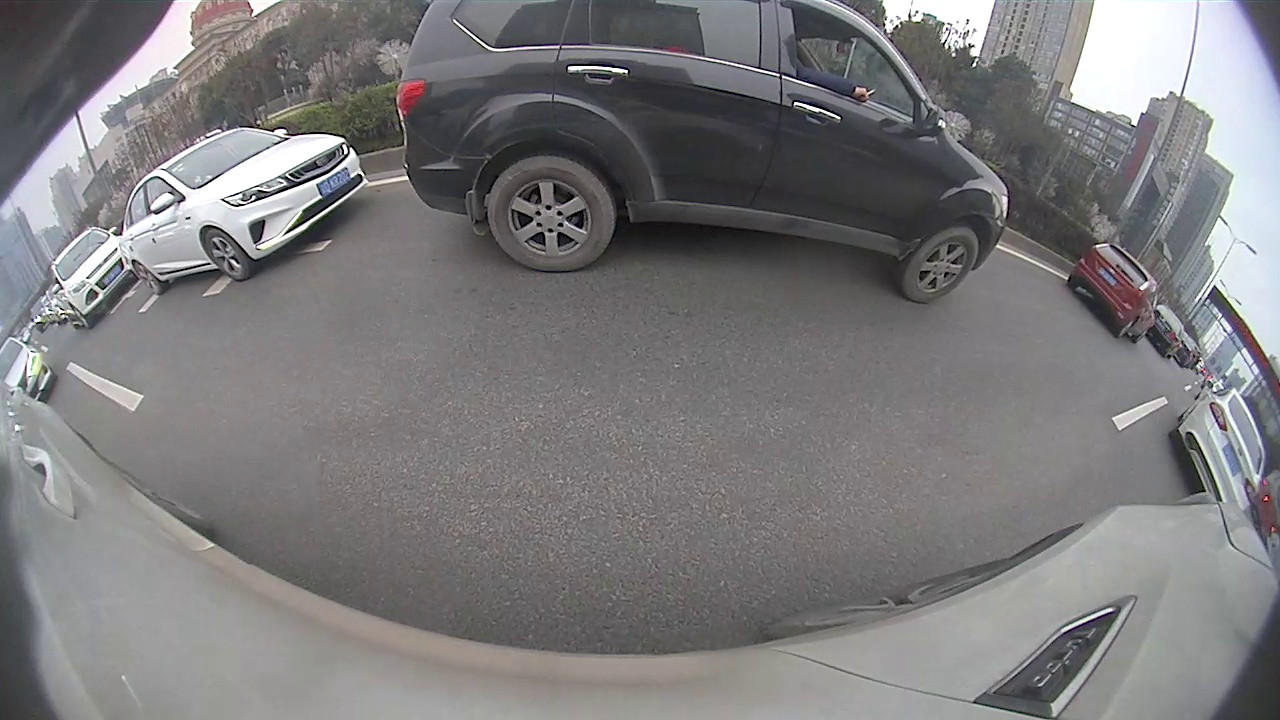car: (397, 1, 1010, 302), (116, 125, 367, 297), (1169, 387, 1266, 513), (48, 224, 137, 331), (1067, 241, 1160, 343), (0, 335, 57, 404), (1148, 304, 1186, 361)
front: (900, 228, 979, 304), (201, 226, 255, 282)
rear: (486, 155, 619, 274), (136, 263, 166, 297)
